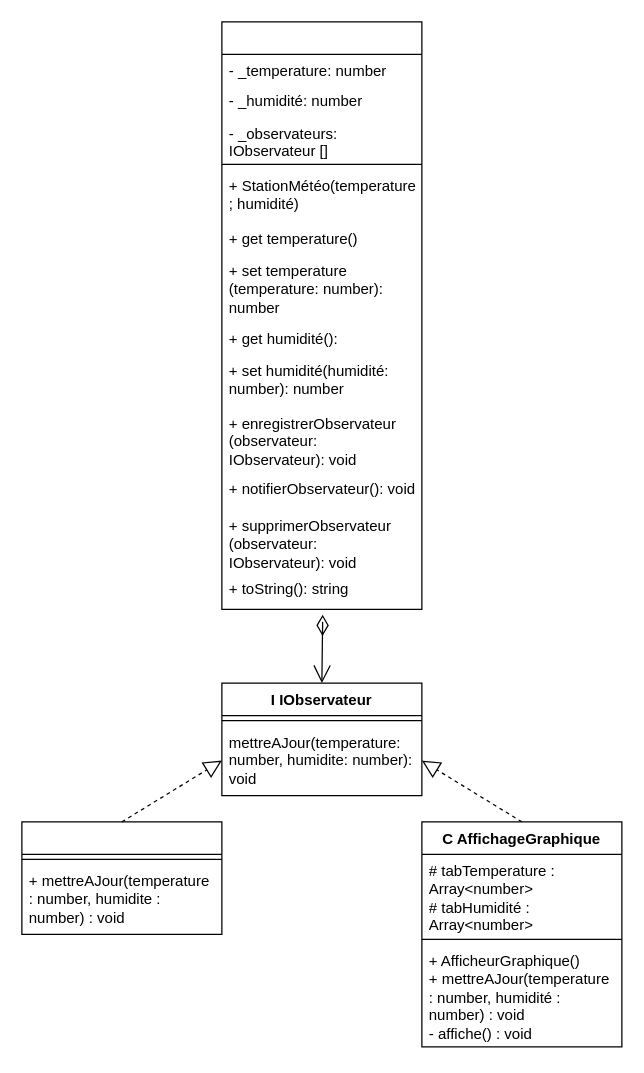
Image size: 644x1073. Some labels were removed from this diagram. The box of each missing label's shape, as (x1, y1, x2, y2) in pixels:
C AffichageTexte: (21, 821, 222, 934)
C StationMétéo: (221, 21, 422, 609)
